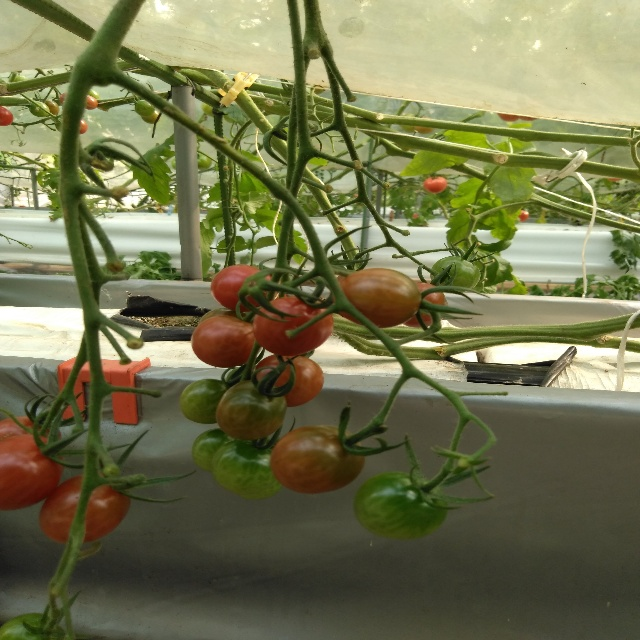l_fully_ripened: (38, 473, 131, 544), (0, 434, 63, 512), (252, 296, 332, 357), (210, 264, 275, 311), (0, 415, 62, 445), (0, 106, 13, 126)
l_green: (354, 471, 448, 539), (211, 438, 277, 495), (180, 377, 234, 424), (192, 428, 238, 472), (429, 256, 480, 293), (0, 612, 61, 639), (135, 100, 155, 117), (29, 101, 50, 117)
l_half_ripened: (269, 425, 366, 493), (332, 267, 422, 329), (217, 378, 288, 440), (254, 354, 325, 407), (191, 315, 261, 368), (403, 282, 445, 328), (39, 99, 59, 116), (141, 109, 161, 124), (85, 94, 98, 110)
